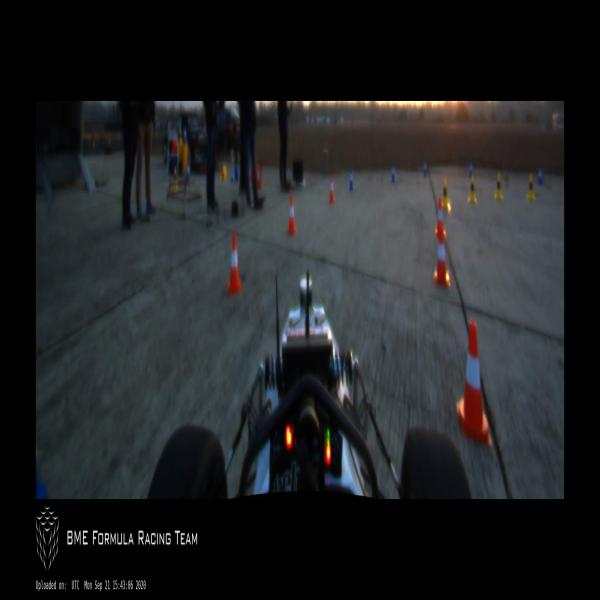blue_cone: (231, 166, 238, 182), (349, 166, 353, 190), (391, 162, 395, 182), (538, 164, 542, 184), (186, 162, 190, 181), (183, 127, 187, 144), (424, 160, 427, 178), (469, 160, 472, 178)
orange_cone: (458, 320, 492, 444), (226, 232, 242, 296), (435, 227, 450, 284), (436, 198, 446, 235), (287, 196, 296, 234), (329, 172, 334, 203)
yellow_cone: (468, 176, 477, 203), (527, 174, 535, 200), (495, 174, 503, 200), (442, 179, 449, 208), (172, 168, 178, 188), (178, 128, 183, 145), (220, 166, 226, 180)
